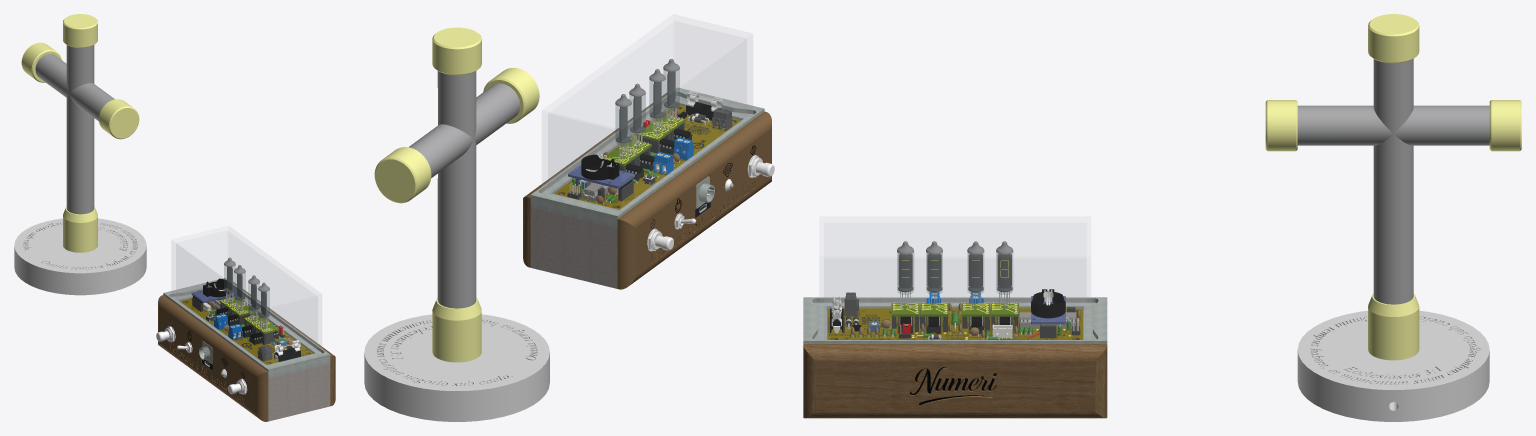
The model's file is clock-with-antenna.glb.
The picture shows the model from 3 angles, left to right: view 1: azimuth 30°, elevation 25°; view 2: azimuth 150°, elevation 25°; view 3: azimuth 270°, elevation 25°; orthographic projection. The views are drawn at different scales.
Parts seen in each view (by area): view 1: numitrónové hodiny.1092, numitrónové hodiny.1089, numitrónové hodiny.1090, numitrónové hodiny.1124, numitrónové hodiny.1085, numitrónové hodiny.1094, numitrónové hodiny.1093, numitrónové hodiny.1129, numitrónové hodiny.972, numitrónové hodiny.076, numitrónové hodiny.016, numitrónové hodiny.123 (+6 smaller); view 2: numitrónové hodiny.1092, numitrónové hodiny.1089, numitrónové hodiny.1090, numitrónové hodiny.1124, numitrónové hodiny.1085, numitrónové hodiny.1094, numitrónové hodiny.1093, numitrónové hodiny.1129, numitrónové hodiny.972, numitrónové hodiny.076, numitrónové hodiny.016, numitrónové hodiny (+12 smaller); view 3: numitrónové hodiny.1092, numitrónové hodiny.1123, numitrónové hodiny.1090, numitrónové hodiny.1089, numitrónové hodiny.1085, numitrónové hodiny.1093, numitrónové hodiny.972, numitrónové hodiny.1129, numitrónové hodiny.016, numitrónové hodiny.988, numitrónové hodiny.123, numitrónové hodiny (+3 smaller).
Part boxes in pixels (left/top/right/bottom): numitrónové hodiny.1092: left=172, top=226, right=321, bottom=365; numitrónové hodiny.1089: left=14, top=218, right=146, bottom=295; numitrónové hodiny.1090: left=35, top=45, right=223, bottom=375; numitrónové hodiny.1124: left=158, top=295, right=268, bottom=421; numitrónové hodiny.1085: left=21, top=14, right=139, bottom=252; numitrónové hodiny.1094: left=268, top=363, right=330, bottom=421; numitrónové hodiny.1093: left=163, top=278, right=330, bottom=378; numitrónové hodiny.1129: left=224, top=265, right=269, bottom=319; numitrónové hodiny.972: left=181, top=298, right=313, bottom=364; numitrónové hodiny.076: left=156, top=283, right=300, bottom=394; numitrónové hodiny.016: left=193, top=266, right=269, bottom=317; numitrónové hodiny.123: left=187, top=307, right=300, bottom=378; numitrónové hodiny.1092: left=542, top=14, right=752, bottom=210; numitrónové hodiny.1089: left=364, top=314, right=549, bottom=421; numitrónové hodiny.1090: left=409, top=71, right=733, bottom=308; numitrónové hodiny.1124: left=617, top=111, right=771, bottom=289; numitrónové hodiny.1085: left=374, top=27, right=539, bottom=362; numitrónové hodiny.1094: left=530, top=207, right=617, bottom=288; numitrónové hodiny.1093: left=530, top=87, right=764, bottom=228; numitrónové hodiny.1129: left=615, top=69, right=679, bottom=145; numitrónové hodiny.972: left=554, top=105, right=740, bottom=209; numitrónové hodiny.076: left=590, top=91, right=774, bottom=251; numitrónové hodiny.016: left=590, top=71, right=678, bottom=183; numitrónové hodiny: left=567, top=113, right=729, bottom=224; numitrónové hodiny.1092: left=820, top=217, right=1090, bottom=339; numitrónové hodiny.1123: left=803, top=344, right=1107, bottom=418; numitrónové hodiny.1090: left=1297, top=59, right=1489, bottom=304; numitrónové hodiny.1089: left=1297, top=310, right=1489, bottom=421; numitrónové hodiny.1085: left=1265, top=14, right=1521, bottom=360; numitrónové hodiny.1093: left=803, top=297, right=1107, bottom=343; numitrónové hodiny.972: left=827, top=308, right=1083, bottom=339; numitrónové hodiny.1129: left=897, top=252, right=1012, bottom=294; numitrónové hodiny.016: left=898, top=254, right=1012, bottom=292; numitrónové hodiny.988: left=891, top=303, right=1018, bottom=316; numitrónové hodiny.123: left=830, top=308, right=1009, bottom=405; numitrónové hodiny: left=846, top=302, right=1079, bottom=338.
Size of the model in its own units: 11.98 by 24.95 by 44.9.
53 materials, 6 textured.
